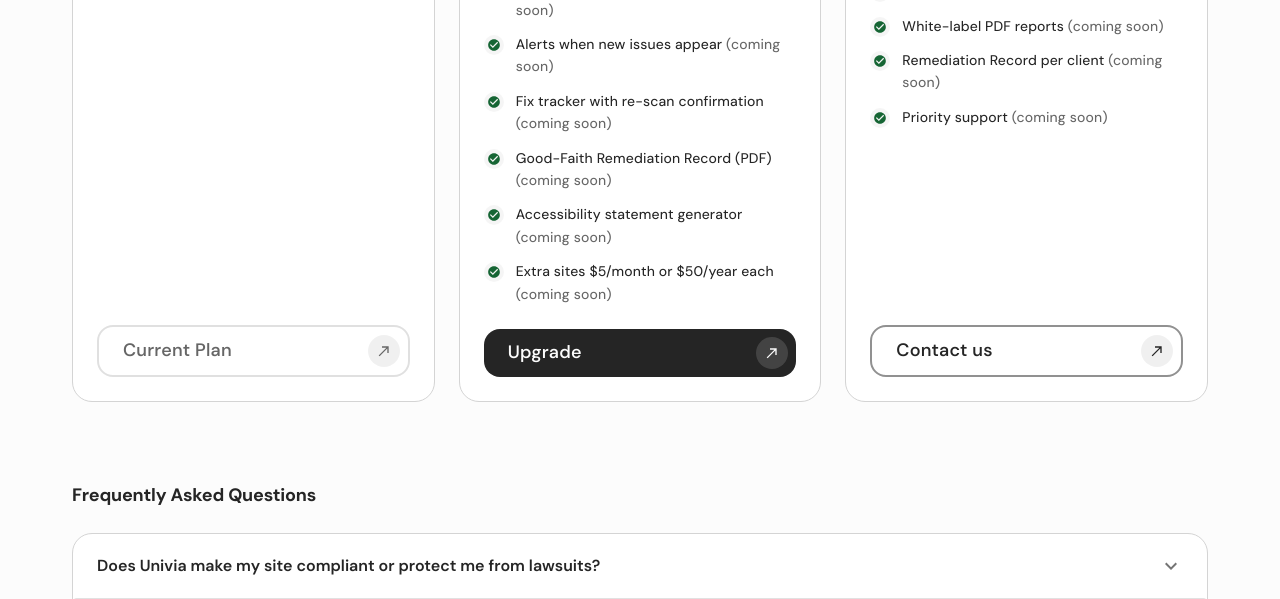
Test case: Pricing › explains that Monitor is not on sale yet, without a browser alert
This screenshot has width=1280, height=599.
(page scrolled)
Click the button "Upgrade": (545, 352) x1=484 y1=329 x2=796 y2=377
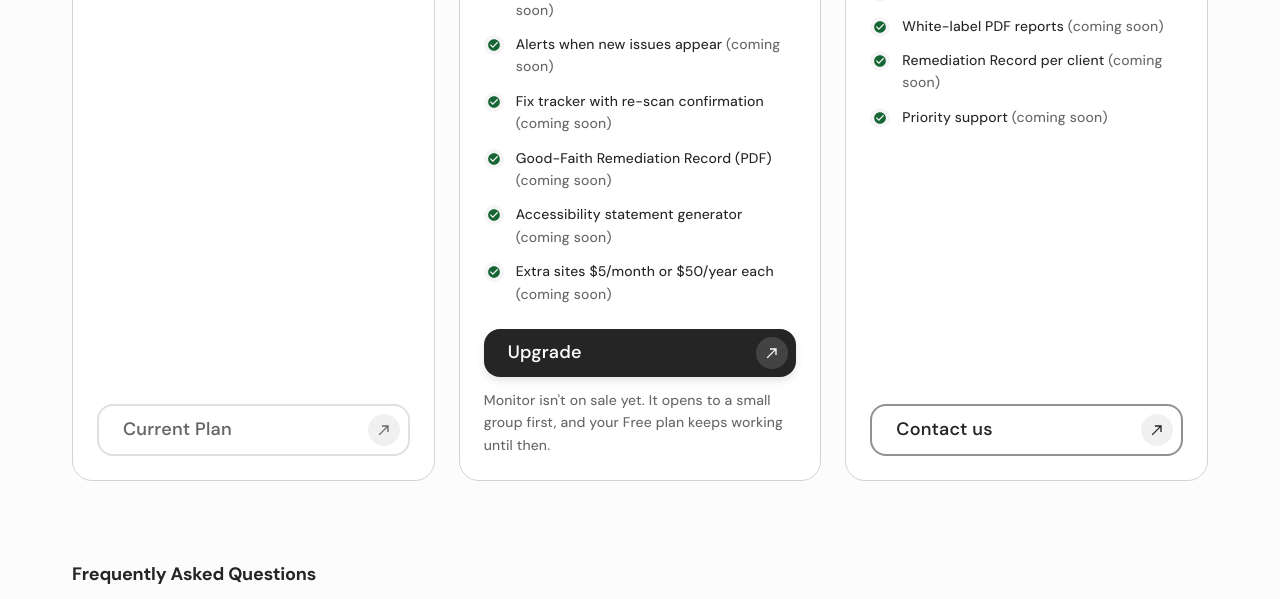
Expected: the message shows "Monitor isn't on sale yet.", x1=484 y1=391 x2=783 y2=454
